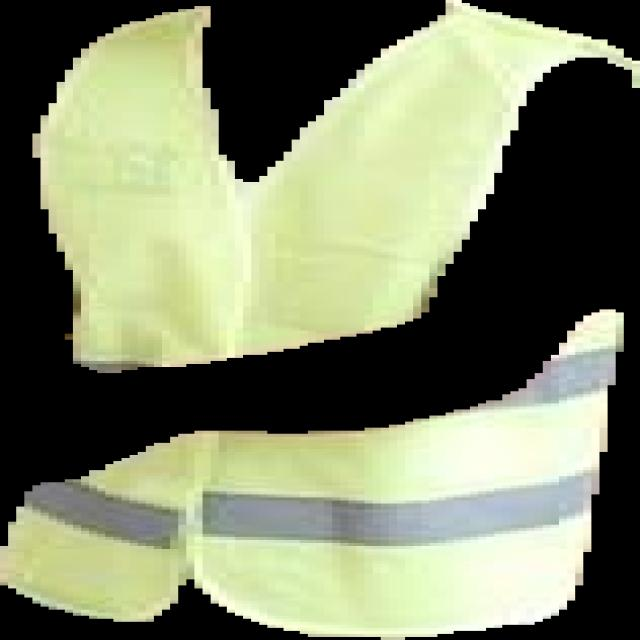Colete: (33, 0, 639, 373)
